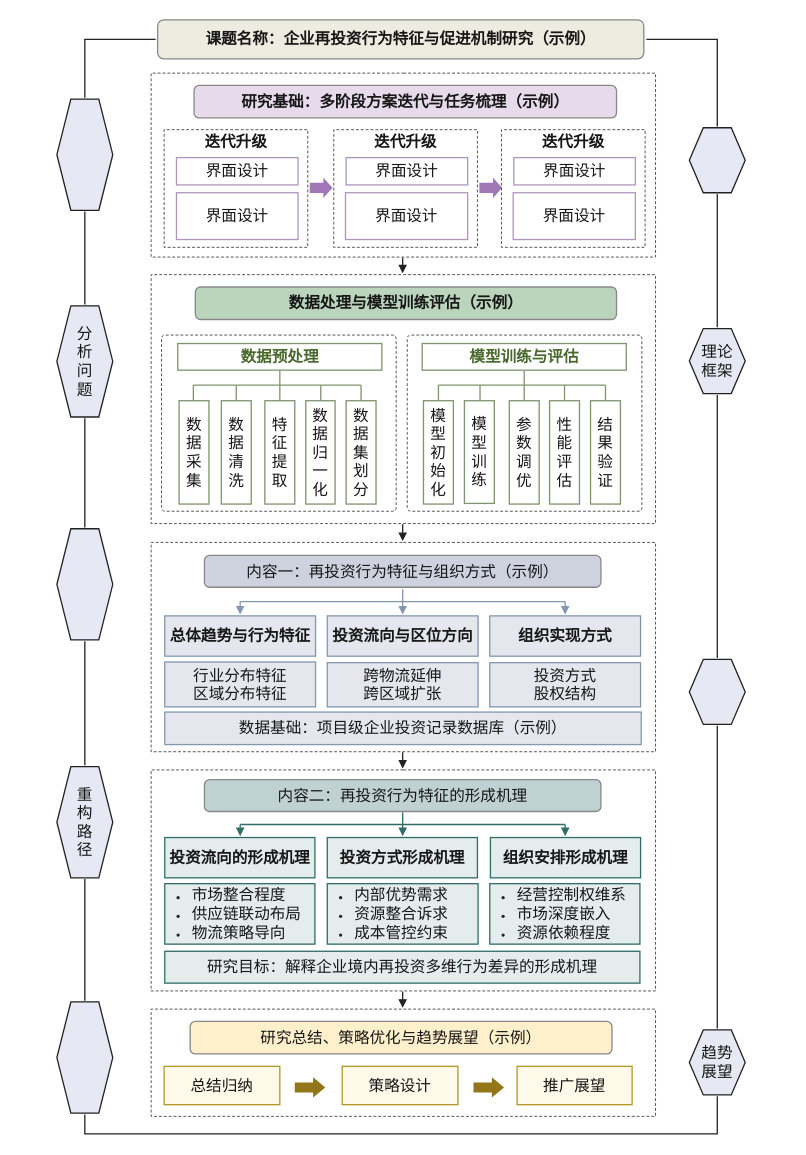
Some shapes in this 806 by 1155 pixel diagram are drawn without their labels. Each missing label, with the centre of its shape:
"提 出 问 题" goes at point 84,154.
"政 策 建 议" goes at point 84,1057.
"机制 分析" goes at point 717,691.
"背景 阐述" goes at point 717,160.
"解 决 问 题" goes at point 84,584.
